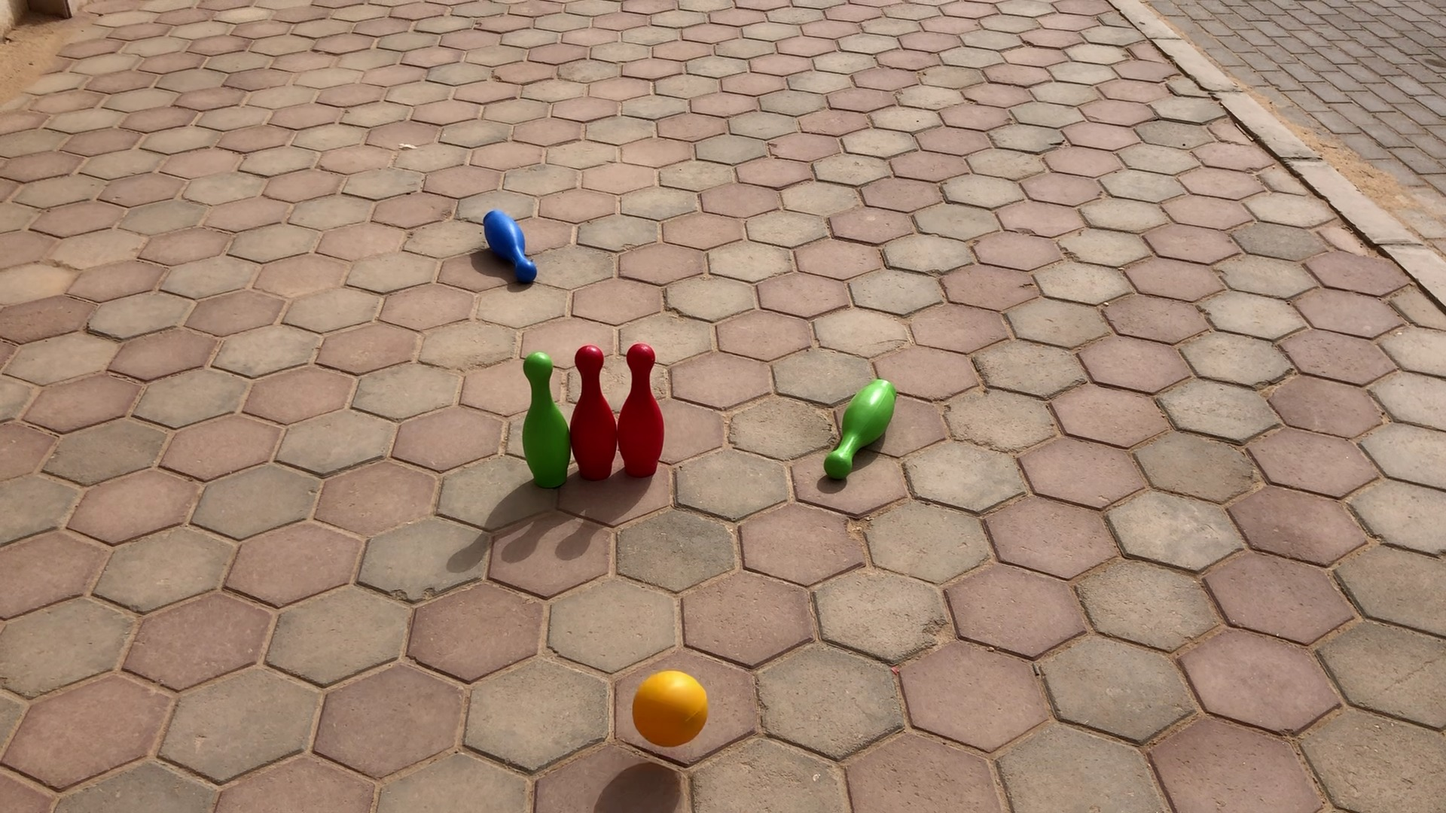pin: (823, 380, 892, 480), (526, 349, 571, 486), (619, 344, 664, 478), (574, 345, 617, 480), (486, 211, 538, 285)
